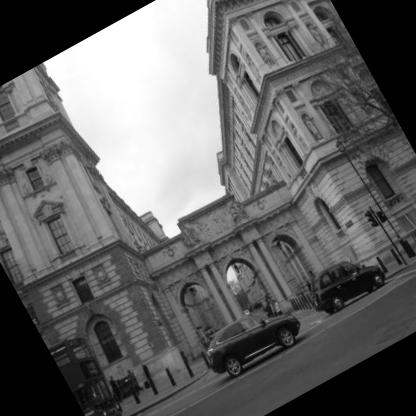bus: (41, 314, 134, 416)
car: (179, 276, 325, 404), (296, 231, 397, 328)
